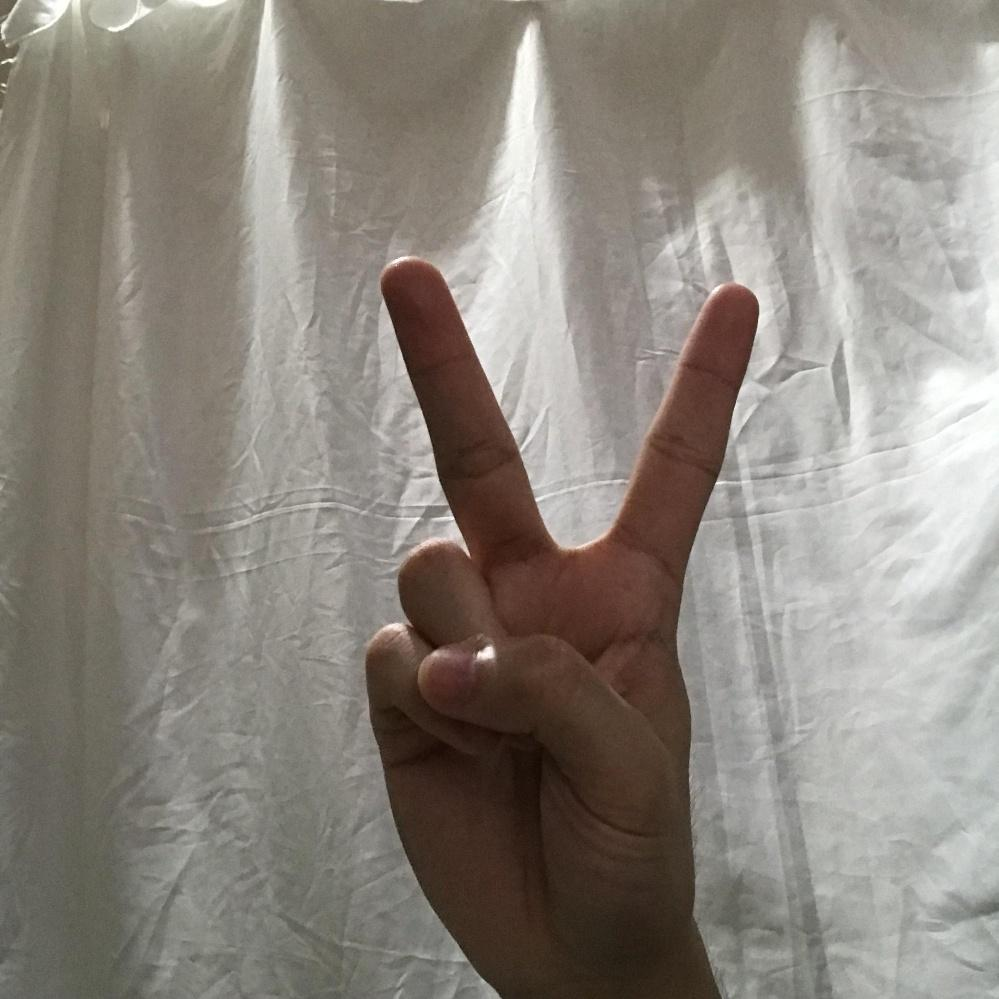v: (364, 258, 760, 989)
